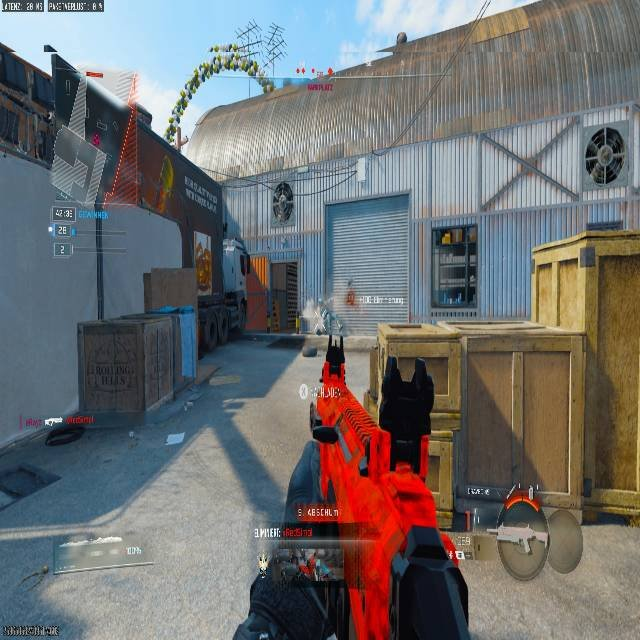player: (271, 180, 295, 227), (194, 242, 211, 288), (265, 302, 279, 333), (495, 509, 504, 528)
